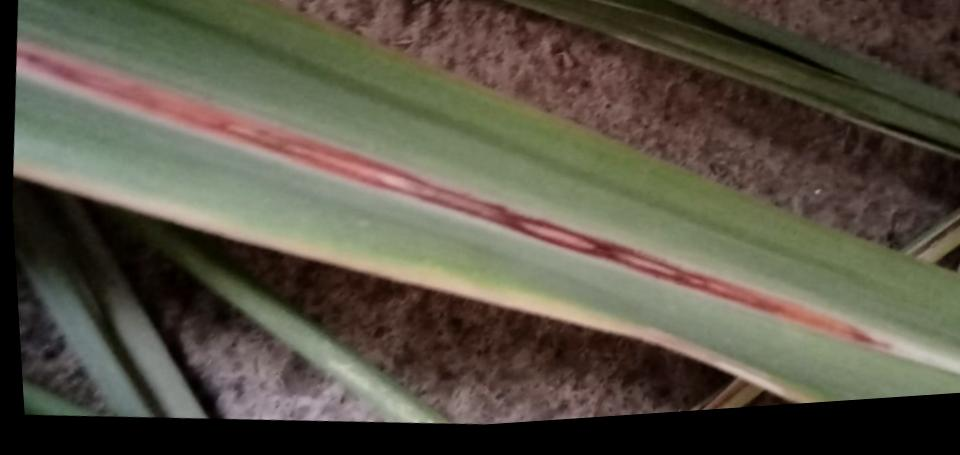RedRot: (17, 39, 894, 351)
